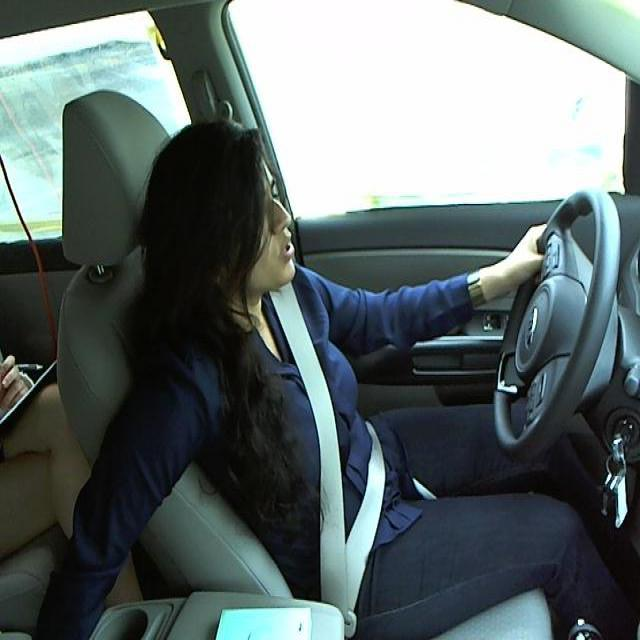seatbelt: (277, 303, 373, 600)
